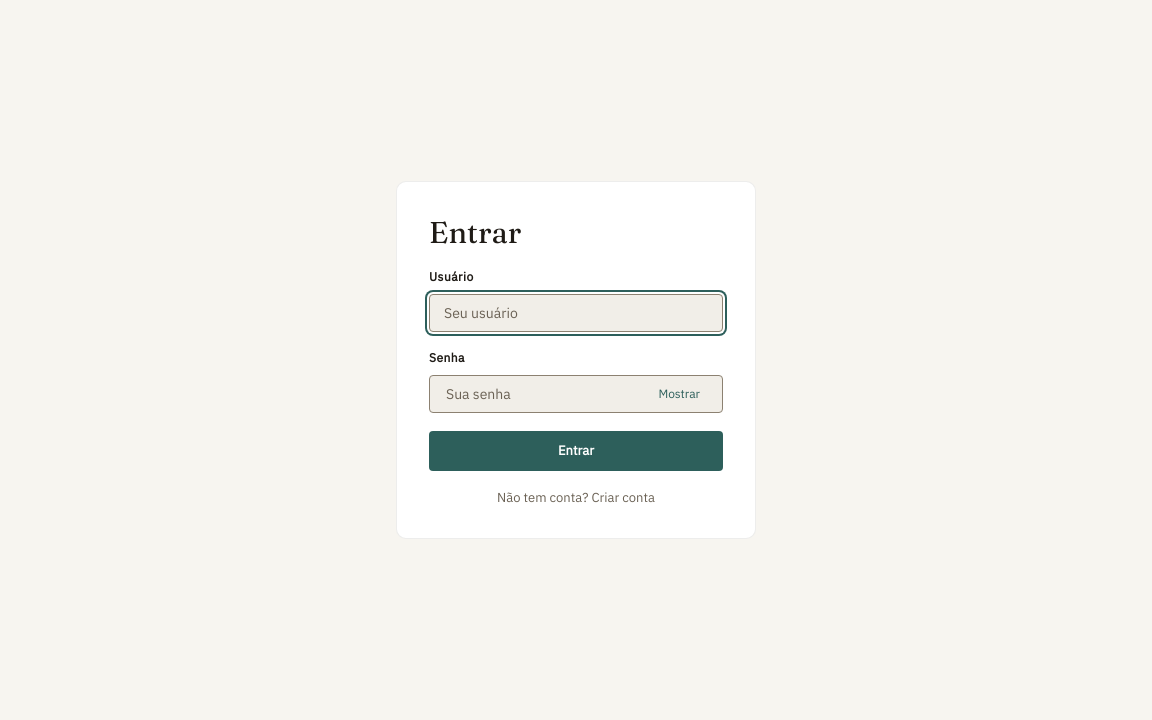
Test: App › ends the session locally and redirects to Login when the logout endpoint fails by connection
Expected: the heading "Entrar" is shown, [429,214,521,251]
Type "guilherme" into the field labelled "Usuário". click: (576, 313)
box: [429,294,723,332]
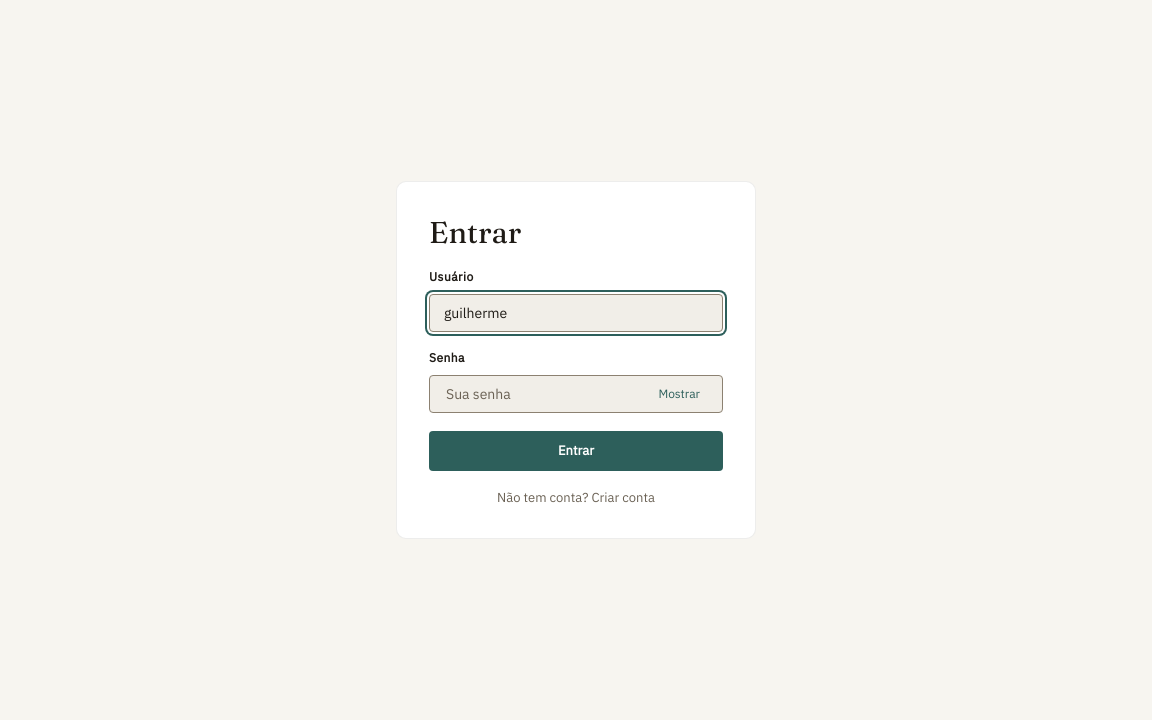
Type "segredo123" into the password field labelled "Senha". click: (543, 394)
box: [444,376,642,412]
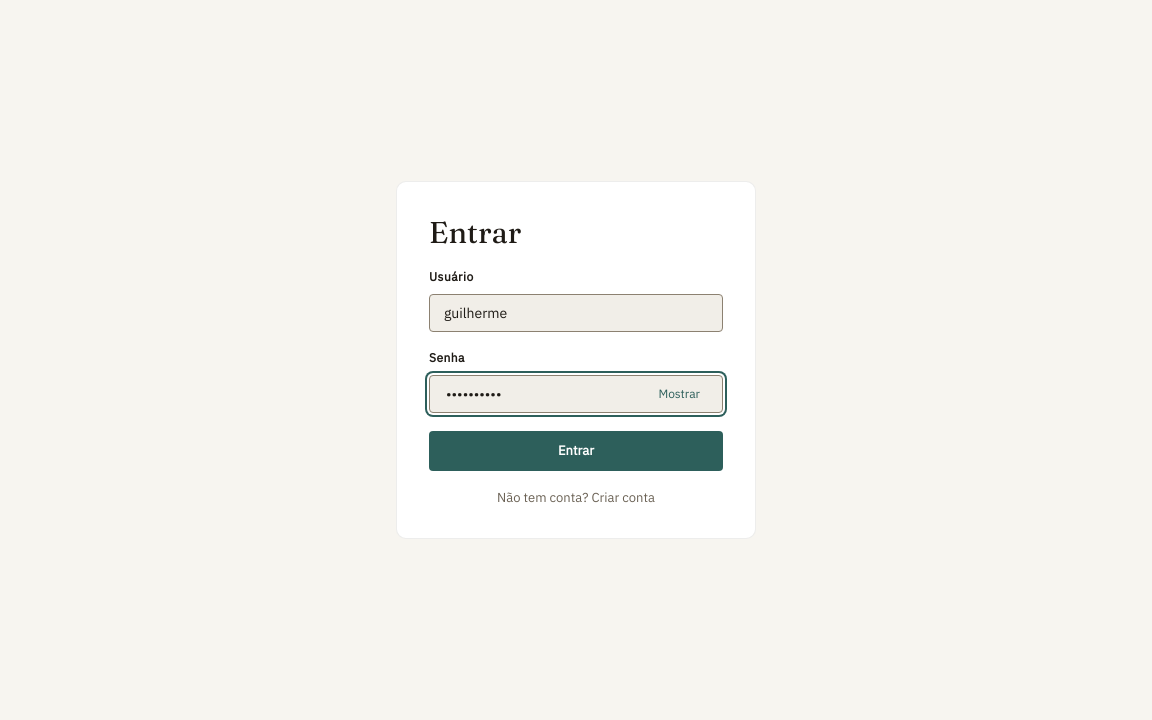
Click the button "Entrar". click: click(576, 451)
box: [429,431,723,471]
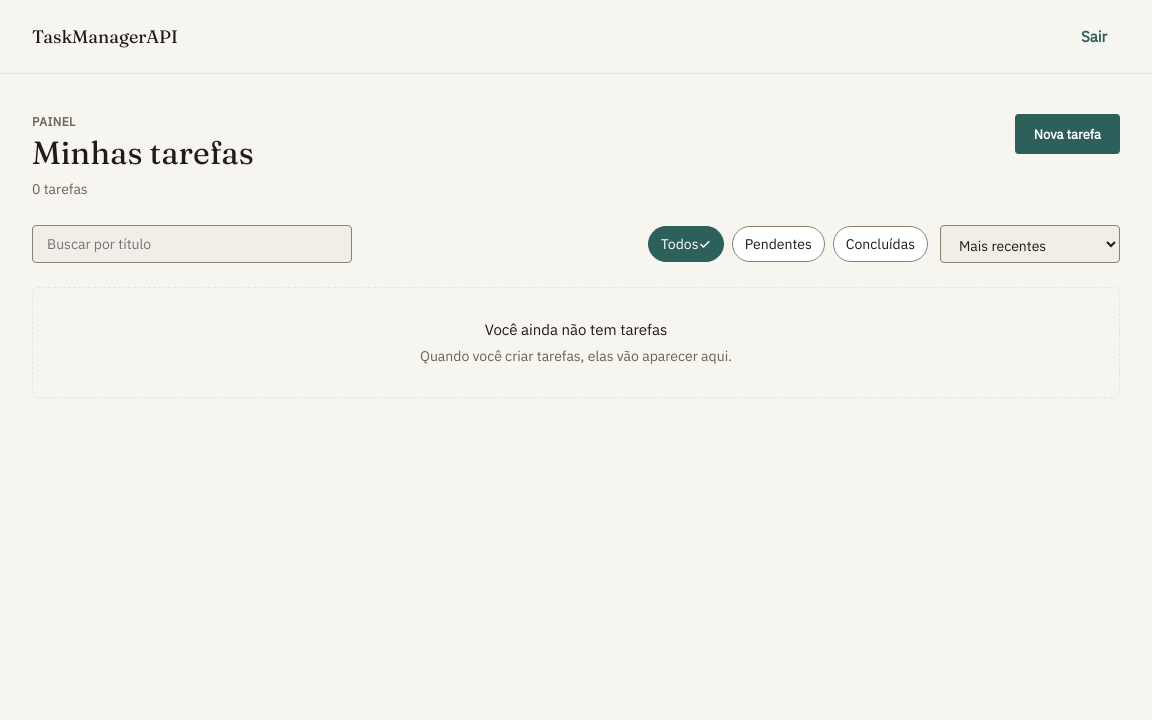
Now the heading "Minhas tarefas" is shown, box [32,133,254,172]
Click the button "Sair". click: click(1094, 36)
box: [1068,18,1120,55]
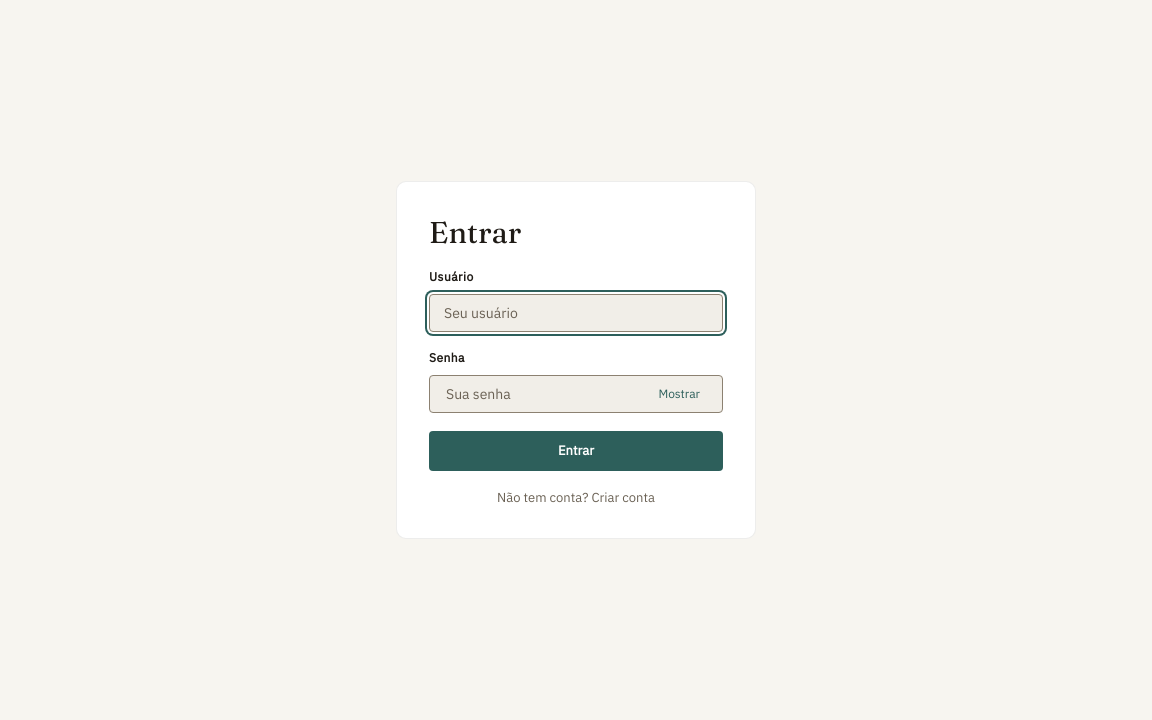
Now the heading "Entrar" is shown, box [429,214,521,251]
